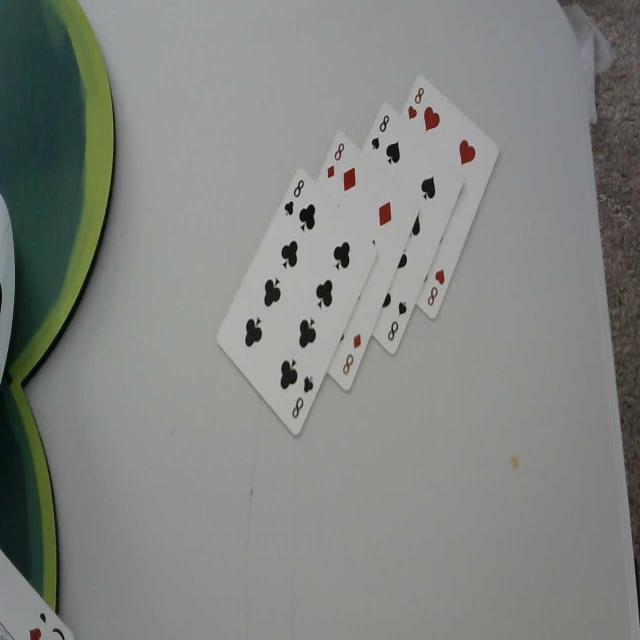8C: (292, 369, 316, 422), (282, 173, 304, 220)
8D: (342, 329, 364, 380), (324, 138, 345, 186)
8H: (406, 81, 426, 122), (427, 266, 446, 309)
8S: (388, 296, 408, 344), (369, 109, 390, 152)
